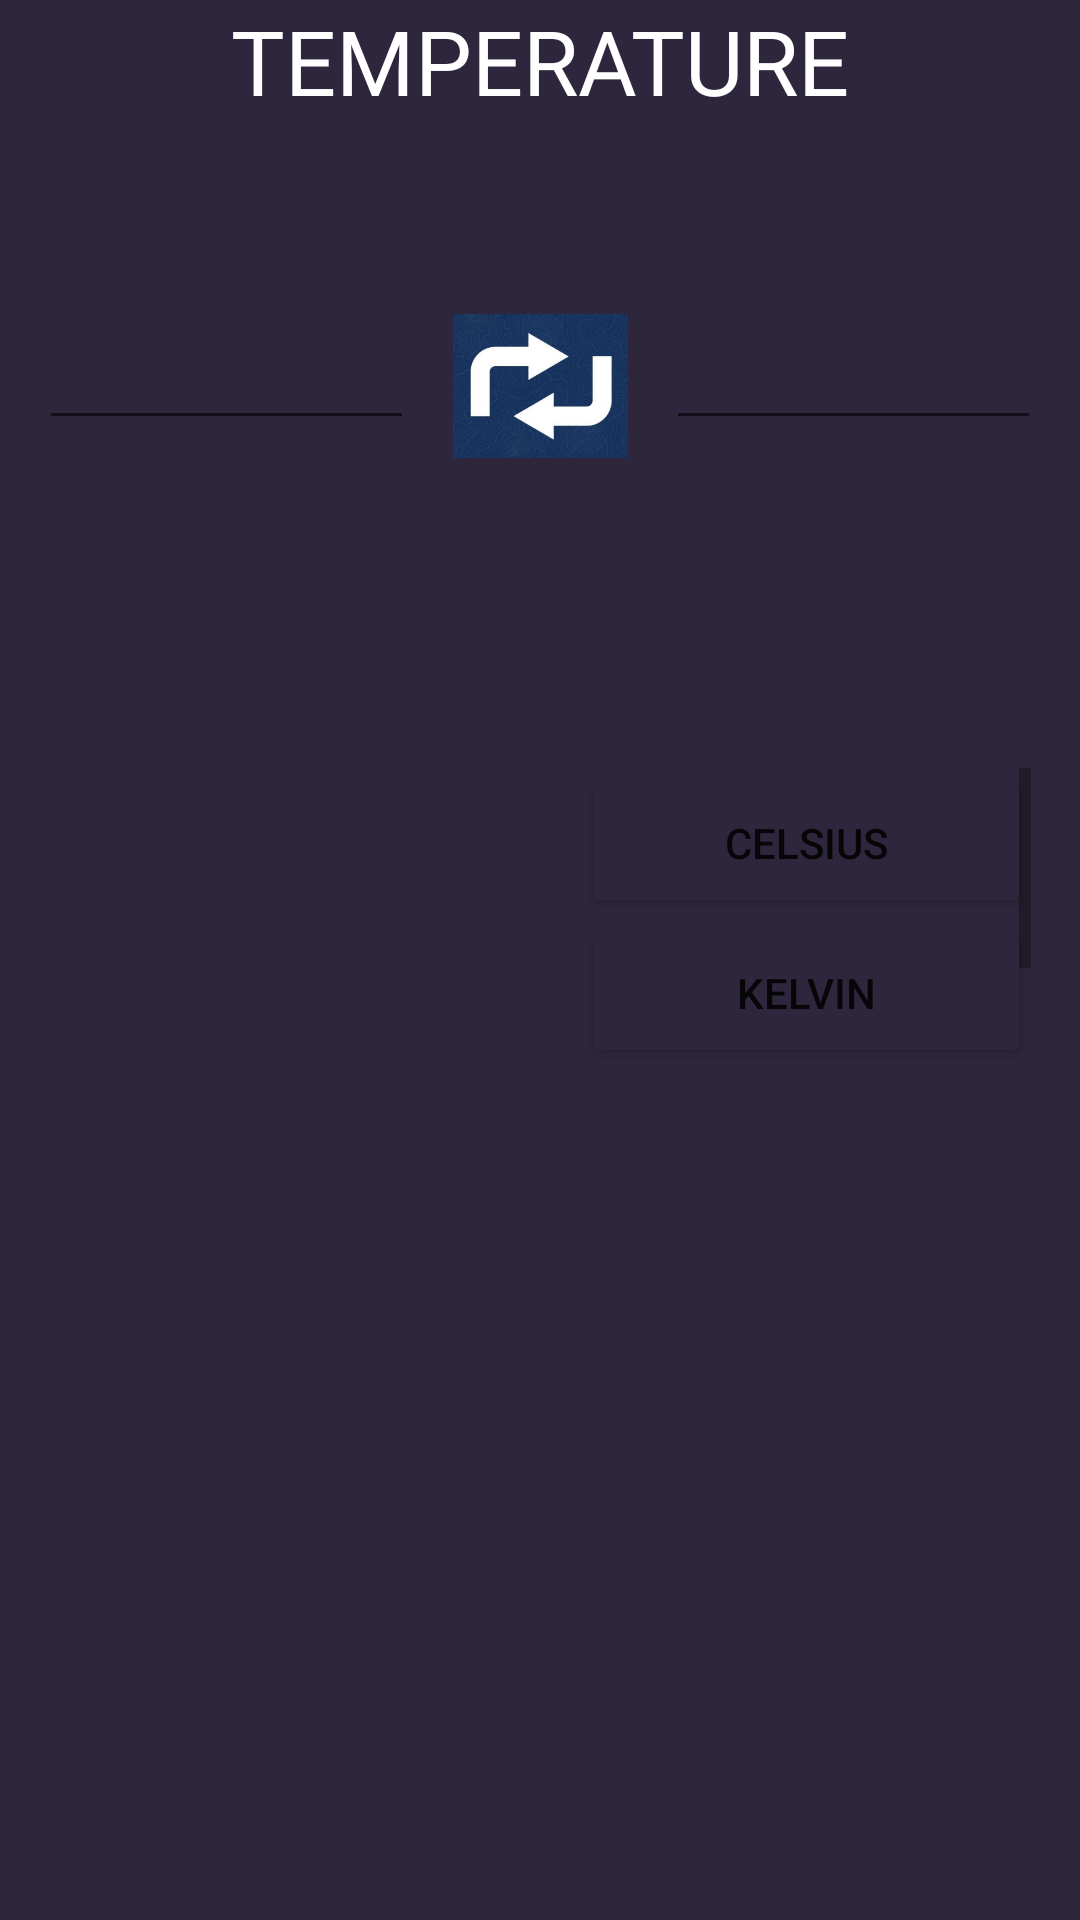

Named icons in this screenshot (1080px x 1920px) and their bounding boxes, BBox(x1, y1, x2, y2):
swapimage: BBox(453, 314, 628, 458)
